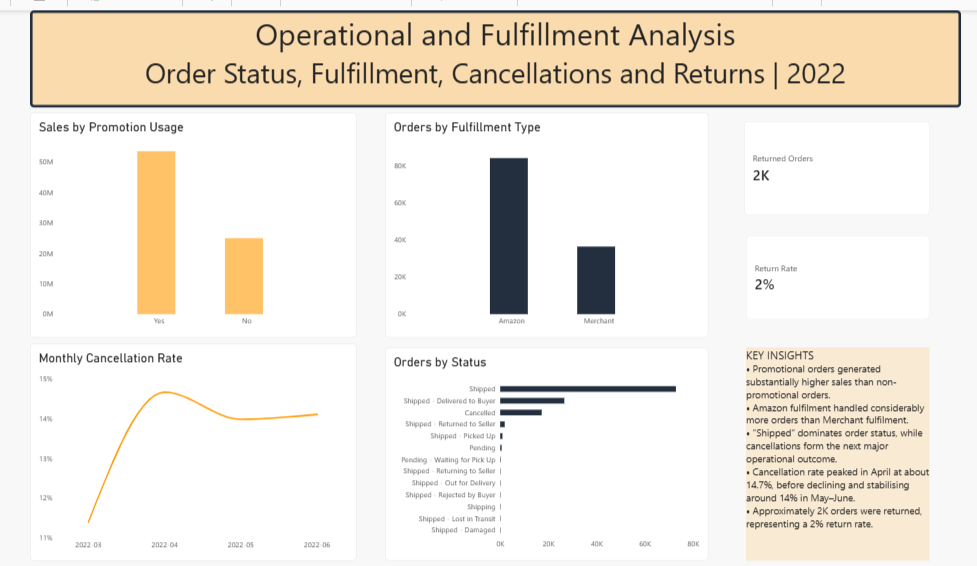

What the dashboard file says about the page in this screenshot:
{"tool":"powerbi","page":{"name":"Page 3","canvas":[1920,1080],"ordinal":2},"visuals":[{"type":"barChart","title":"Orders by Status","fields":{"Y":["Amazon Sales.Total Orders"],"Category":["Amazon Sales.Status"]},"box":[759.7,652.4,625.5,412.9],"z":0},{"type":"clusteredColumnChart","title":"Orders by Fulfillment Type","fields":{"Category":["Amazon Sales.Fulfilment"],"Y":["Amazon Sales.Total Orders"]},"box":[759.7,198.2,625.5,435.6],"z":1000},{"type":"columnChart","title":"Sales by Promotion Usage","fields":{"Category":["Amazon Sales.PromotionUsed"],"Y":["Amazon Sales.Total sales"]},"box":[74.3,198.2,631.7,435.6],"z":2000},{"type":"lineChart","title":"Monthly Cancellation Rate","fields":{"Category":["Calendar.Year Month"],"Y":["Amazon Sales.Cancellation Rate"]},"box":[74.3,644.1,631.7,421.2],"z":3000},{"type":"cardVisual","fields":{"Data":["Amazon Sales.Returned Orders"]},"box":[1455.5,214.7,359.2,181.7],"z":4000},{"type":"cardVisual","fields":{"Data":["Amazon Sales.Return Rate"]},"box":[1459.6,435.6,355.1,163.1],"z":5000},{"type":"textbox","box":[73.5,0,1801.9,187.7],"z":6000},{"type":"textbox","box":[1460,652,355,413],"z":7000}]}

Visuals, with their boxes in screenshot pixels (x1, y1, x2, y2), scaled from the page's 1920x1080 canvas onto the 977x566 screenshot:
"Orders by Status" barChart: (387,342,705,558)
"Orders by Fulfillment Type" clusteredColumnChart: (387,104,705,332)
"Sales by Promotion Usage" columnChart: (38,104,359,332)
"Monthly Cancellation Rate" lineChart: (38,338,359,558)
cardVisual - Amazon Sales.Returned Orders: (741,113,923,208)
cardVisual - Amazon Sales.Return Rate: (743,228,923,314)
textbox: (37,0,954,98)
textbox: (743,342,924,558)
